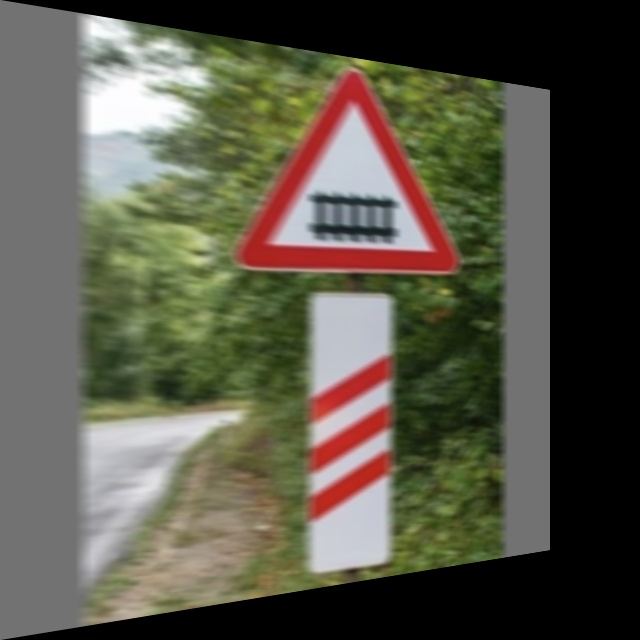Guarded_Level_Crossing: (246, 51, 448, 274)
